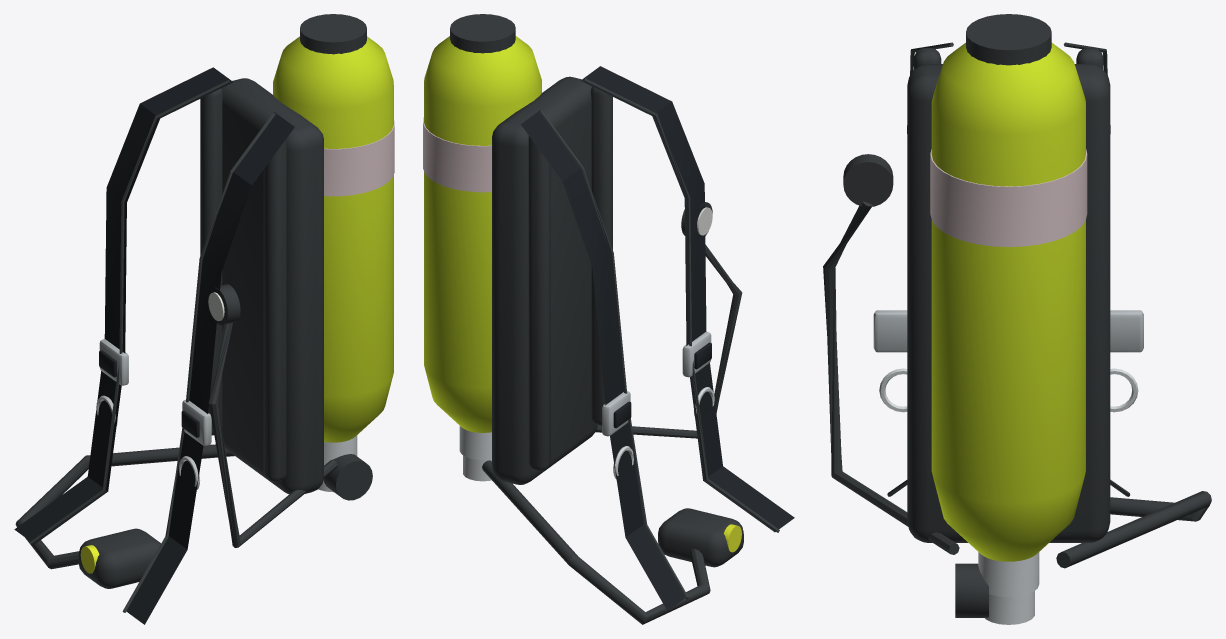
The model's file is cabin_scba_right.glb.
The picture shows the model from 3 angles, left to right: view 1: azimuth 30°, elevation 25°; view 2: azimuth 150°, elevation 25°; view 3: azimuth 270°, elevation 25°; orthographic projection. The views are drawn at different scales.
Parts seen in each view (by area): view 1: cabin_scba_right; view 2: cabin_scba_right; view 3: cabin_scba_right.
Boxes of the visible parts, x1=… form: cabin_scba_right: x1=14, y1=14, x2=394, y2=624; cabin_scba_right: x1=423, y1=14, x2=794, y2=624; cabin_scba_right: x1=823, y1=14, x2=1211, y2=624.
Size of the model in its own units: 0.5912 by 0.8998 by 0.4981.
